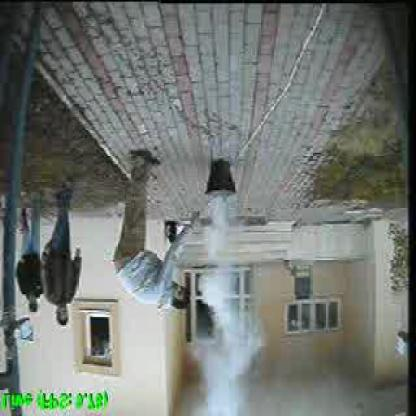Smoke: (190, 194, 261, 415)
